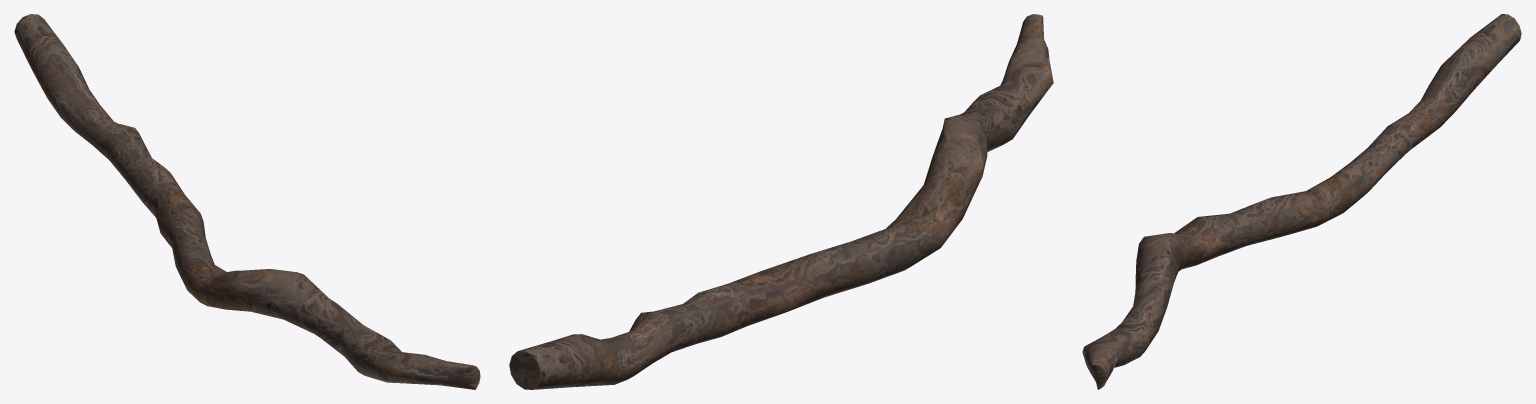
File: SM_Sticks_Large_00.fbx
3 renders of one model, left to right at view 1: azimuth 30°, elevation 25°; view 2: azimuth 150°, elevation 25°; view 3: azimuth 330°, elevation 25°, orthographic. The views are drawn at different scales.
Parts seen in each view (by area): view 1: SM_Sticks_Large_00; view 2: SM_Sticks_Large_00; view 3: SM_Sticks_Large_00.
Part boxes in pixels (<box>): SM_Sticks_Large_00: <box>14,14,480,389</box>; SM_Sticks_Large_00: <box>509,14,1053,389</box>; SM_Sticks_Large_00: <box>1082,14,1521,389</box>.
Size of the model in its own units: 14.72 by 99.04 by 11.59.
1 material, 1 textured.
